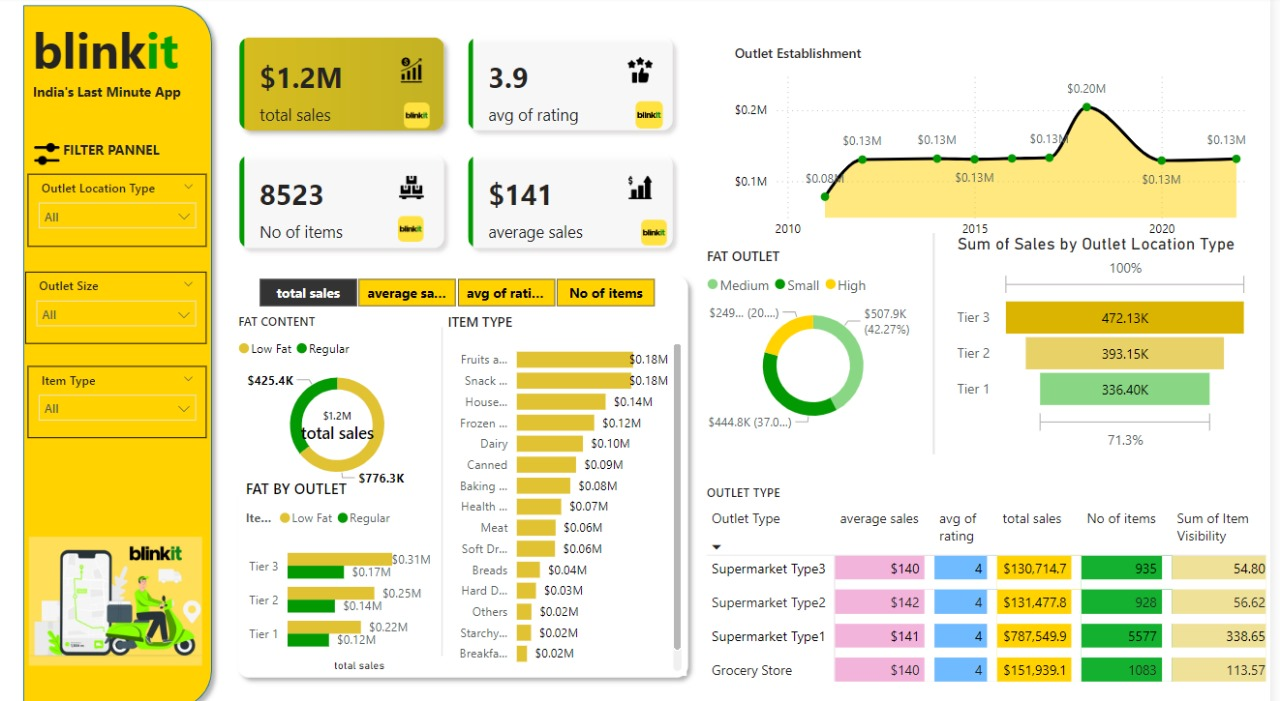

The dashboard page shown, as its layout file describes it:
{"tool":"powerbi","page":{"name":"Page 1","canvas":[1280,720],"ordinal":0},"visuals":[{"type":"shape","box":[27.5,0,206.1,719.8],"z":0},{"type":"textbox","box":[41.2,15.1,175.8,104.4],"z":1000},{"type":"textbox","box":[41.2,81,175.8,28.8],"z":2000},{"type":"cardVisual","fields":{"Data":["BlinkIT Grocery Data.total sales","BlinkIT Grocery Data.avg of rating","BlinkIT Grocery Data.No of items","BlinkIT Grocery Data.average sales"]},"box":[234.9,24.7,467.1,245.9],"z":3000},{"type":"shape","box":[241.8,270.6,467.1,419],"z":4000},{"type":"donutChart","title":"FAT CONTENT","fields":{"Y":["BlinkIT Grocery Data.total sales"],"Category":["BlinkIT Grocery Data.Item Fat Content"]},"box":[245.9,315.9,207.4,180],"z":5000},{"type":"slicer","fields":{"Values":["metrics.metrics"]},"box":[245.9,274.7,443.7,41.2],"z":6000},{"type":"cardVisual","fields":{"Data":["BlinkIT Grocery Data.total sales"]},"box":[245.9,394.2,207.4,67.3],"z":7000},{"type":"clusteredBarChart","title":"FAT BY OUTLET","fields":{"Y":["BlinkIT Grocery Data.total sales"],"Category":["BlinkIT Grocery Data.Outlet Location Type"],"Series":["BlinkIT Grocery Data.Item Fat Content"]},"box":[252.8,480.8,195.1,197.8],"z":8000},{"type":"shape","box":[219.8,331.1,469.8,328.3],"z":9000},{"type":"clusteredBarChart","title":"ITEM TYPE","fields":{"Y":["BlinkIT Grocery Data.total sales"],"Category":["BlinkIT Grocery Data.Item Type"]},"box":[454.7,315.9,243.1,362.7],"z":10000},{"type":"lineChart","title":" Outlet Establishment ","fields":{"Category":["BlinkIT Grocery Data.Outlet Establishment Year"],"Y":["BlinkIT Grocery Data.total sales"]},"box":[740.4,46.7,523.4,203.3],"z":11000},{"type":"donutChart","title":"FAT OUTLET","fields":{"Category":["BlinkIT Grocery Data.Outlet Size"],"Y":["BlinkIT Grocery Data.total sales"]},"box":[712.9,250,222.5,190.9],"z":12000},{"type":"shape","box":[708.8,236.3,469.8,221.2],"z":13000},{"type":"funnel","fields":{"Category":["BlinkIT Grocery Data.Outlet Location Type"],"Y":["Sum(BlinkIT Grocery Data.Sales)"]},"box":[963,236.3,300.8,221.2],"z":14000},{"type":"pivotTable","title":"OUTLET TYPE","fields":{"Values":["BlinkIT Grocery Data.average sales","BlinkIT Grocery Data.avg of rating","BlinkIT Grocery Data.total sales","BlinkIT Grocery Data.No of items","Sum(BlinkIT Grocery Data.Item Visibility)"],"Rows":["BlinkIT Grocery Data.Outlet Type"]},"box":[712.9,487.7,567.3,232.2],"z":15000},{"type":"slicer","fields":{"Values":["BlinkIT Grocery Data.Outlet Location Type"]},"box":[41.2,177.2,178.6,72.8],"z":16000},{"type":"slicer","fields":{"Values":["BlinkIT Grocery Data.Outlet Size"]},"box":[38.6,275.1,181,72.4],"z":17000},{"type":"slicer","fields":{"Values":["BlinkIT Grocery Data.Item Type"]},"box":[41,369.2,178.6,72.4],"z":18000},{"type":"textbox","box":[71.4,138.7,116.8,48.1],"z":19000},{"type":"image","box":[38.5,137.4,44,39.8],"z":20000},{"type":"image","box":[37.1,513.8,182.7,180],"z":21000},{"type":"image","box":[398.4,214.3,49.5,35.7],"z":22000},{"type":"image","box":[403.9,101.7,49.5,35.7],"z":23000},{"type":"image","box":[640.1,100.3,39.8,37.1],"z":24000},{"type":"image","box":[640.1,218.4,49.5,35.7],"z":24001}]}

Visuals, with their boxes in screenshot pixels (x1, y1, x2, y2), scaled from the page's 1280x720 canvas onto the 1280x701 screenshot:
shape: pyautogui.locateOnScreen(28, 0, 234, 700)
textbox: pyautogui.locateOnScreen(41, 15, 217, 116)
textbox: pyautogui.locateOnScreen(41, 79, 217, 107)
cardVisual - BlinkIT Grocery Data.total sales x BlinkIT Grocery Data.avg of rating: pyautogui.locateOnScreen(235, 24, 702, 263)
shape: pyautogui.locateOnScreen(242, 263, 709, 671)
"FAT CONTENT" donutChart: pyautogui.locateOnScreen(246, 308, 453, 483)
slicer - metrics.metrics: pyautogui.locateOnScreen(246, 267, 690, 308)
cardVisual - BlinkIT Grocery Data.total sales: pyautogui.locateOnScreen(246, 384, 453, 449)
"FAT BY OUTLET" clusteredBarChart: pyautogui.locateOnScreen(253, 468, 448, 661)
shape: pyautogui.locateOnScreen(220, 322, 690, 642)
"ITEM TYPE" clusteredBarChart: pyautogui.locateOnScreen(455, 308, 698, 661)
" Outlet Establishment " lineChart: pyautogui.locateOnScreen(740, 45, 1264, 243)
"FAT OUTLET" donutChart: pyautogui.locateOnScreen(713, 243, 935, 429)
shape: pyautogui.locateOnScreen(709, 230, 1179, 445)
funnel - BlinkIT Grocery Data.Outlet Location Type x Sum(BlinkIT Grocery Data.Sales): pyautogui.locateOnScreen(963, 230, 1264, 445)
"OUTLET TYPE" pivotTable: pyautogui.locateOnScreen(713, 475, 1279, 700)
slicer - BlinkIT Grocery Data.Outlet Location Type: pyautogui.locateOnScreen(41, 173, 220, 243)
slicer - BlinkIT Grocery Data.Outlet Size: pyautogui.locateOnScreen(39, 268, 220, 338)
slicer - BlinkIT Grocery Data.Item Type: pyautogui.locateOnScreen(41, 359, 220, 430)
textbox: pyautogui.locateOnScreen(71, 135, 188, 182)
image: pyautogui.locateOnScreen(38, 134, 82, 173)
image: pyautogui.locateOnScreen(37, 500, 220, 675)
image: pyautogui.locateOnScreen(398, 209, 448, 243)
image: pyautogui.locateOnScreen(404, 99, 453, 134)
image: pyautogui.locateOnScreen(640, 98, 680, 134)
image: pyautogui.locateOnScreen(640, 213, 690, 247)
